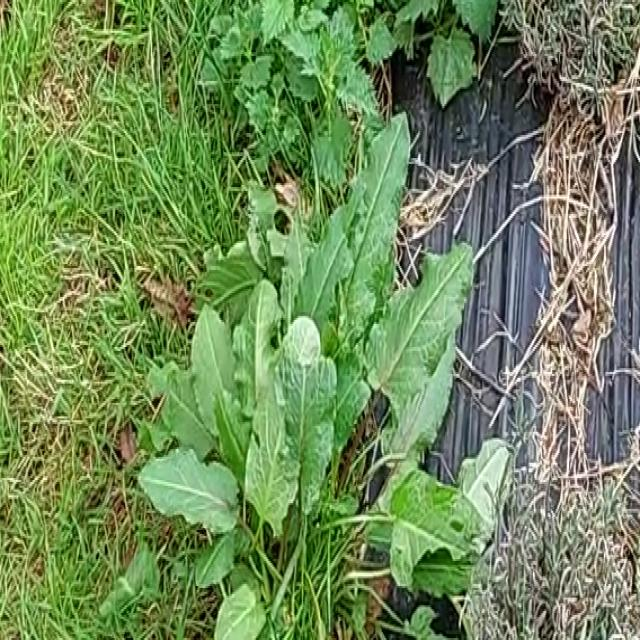organic waste: (126, 128, 482, 576)
